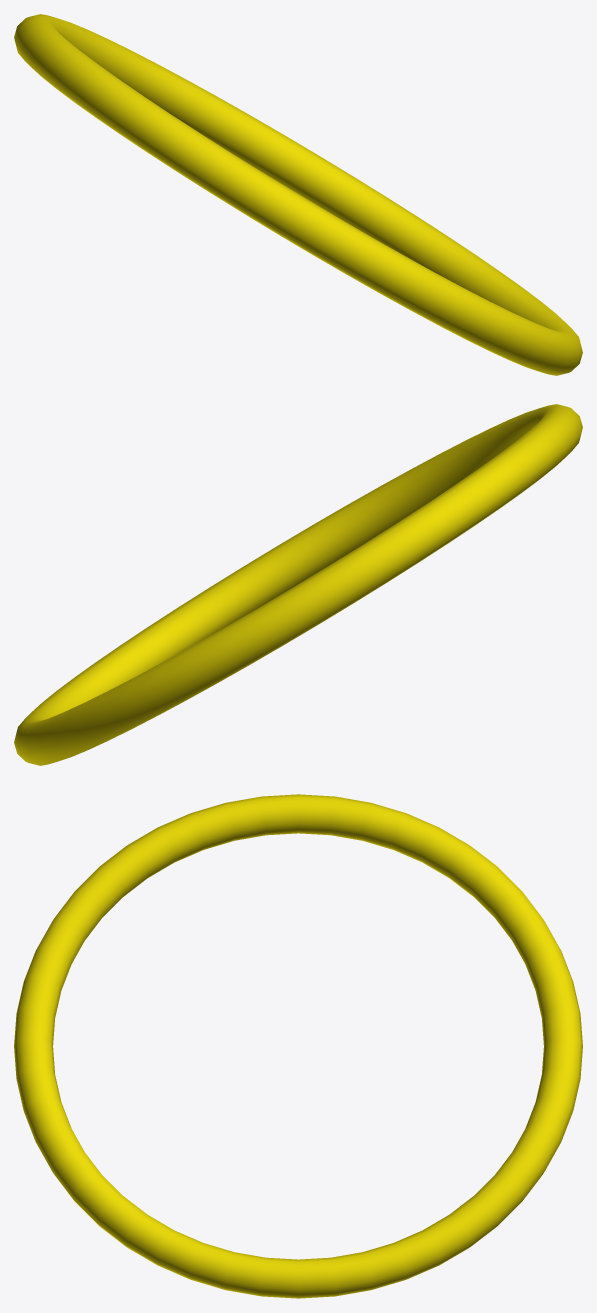
Rendered from oxygen_ring_1.gltf.
The picture shows the model from 3 angles, top to bottom: view 1: azimuth 30°, elevation 25°; view 2: azimuth 150°, elevation 25°; view 3: azimuth 270°, elevation 25°; orthographic projection. The views are drawn at different scales.
Visible parts, largest first — view 1: Torus.001; view 2: Torus.001; view 3: Torus.001.
Boxes of the visible parts, <box> form: Torus.001: <box>14,14,582,375</box>; Torus.001: <box>14,404,582,765</box>; Torus.001: <box>14,794,582,1298</box>.
Bounding box in the file's own units: 3.34 × 2.53 × 4.08.
